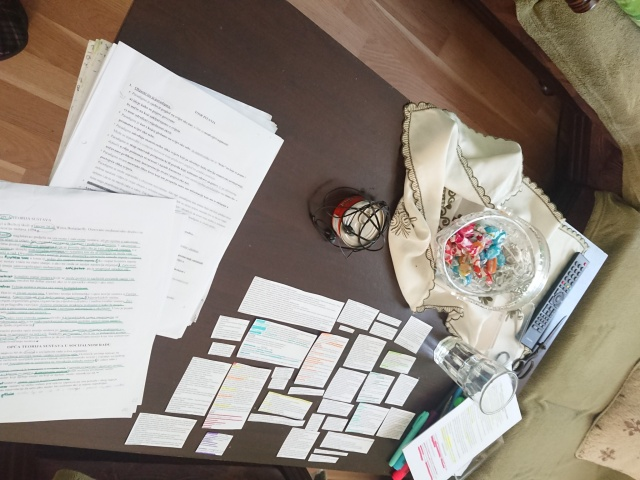Gavrilovic Pork Liver Pate 100g: (329, 194, 385, 250)
